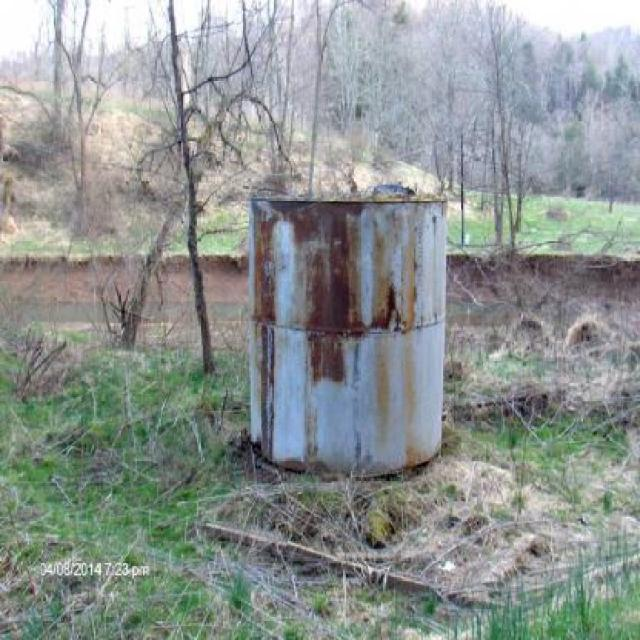corrosion: (252, 187, 446, 473)
